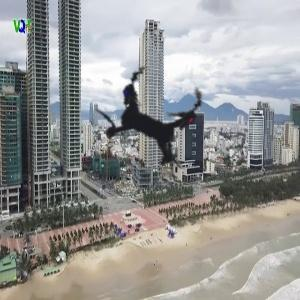drone: (51, 26, 244, 219)
